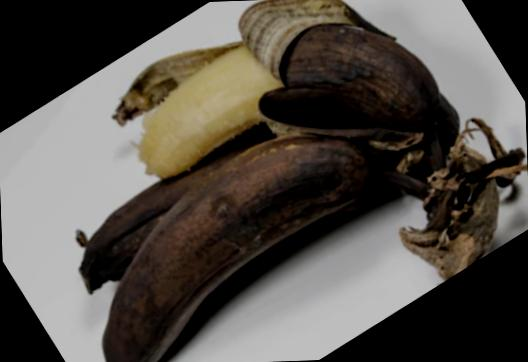Banana Overripe: (25, 0, 528, 362)
